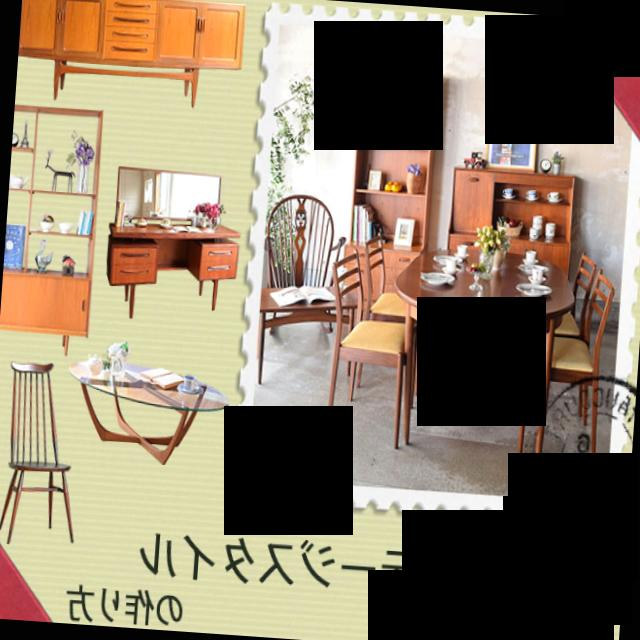vintage chair: (0, 346, 87, 557)
vintage desk: (61, 338, 232, 469)
vintage shelf: (95, 150, 250, 337), (15, 0, 254, 110), (0, 101, 107, 341)
